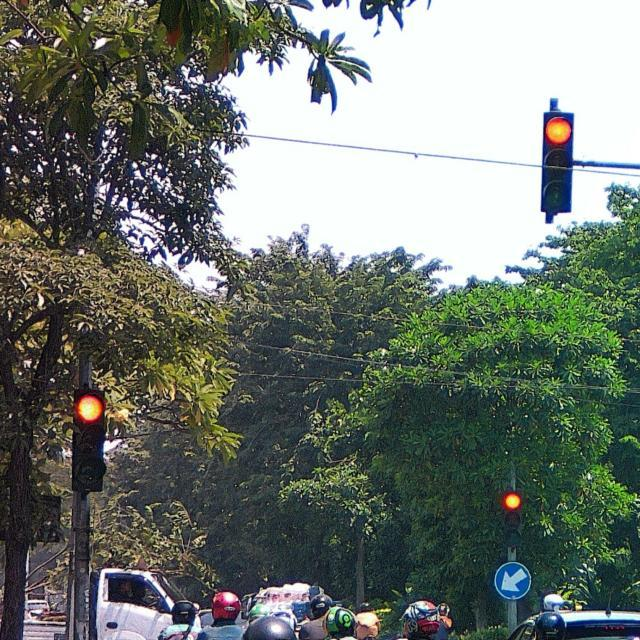red light: (540, 112, 574, 215), (75, 390, 106, 492)
